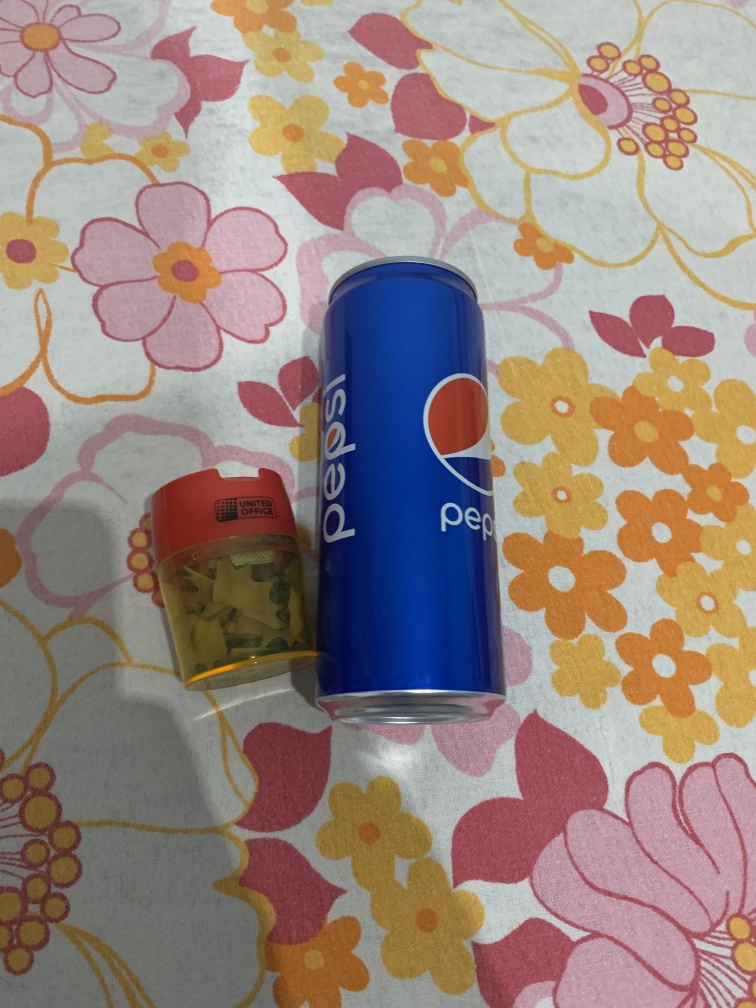pepsi: (306, 249, 527, 728)
